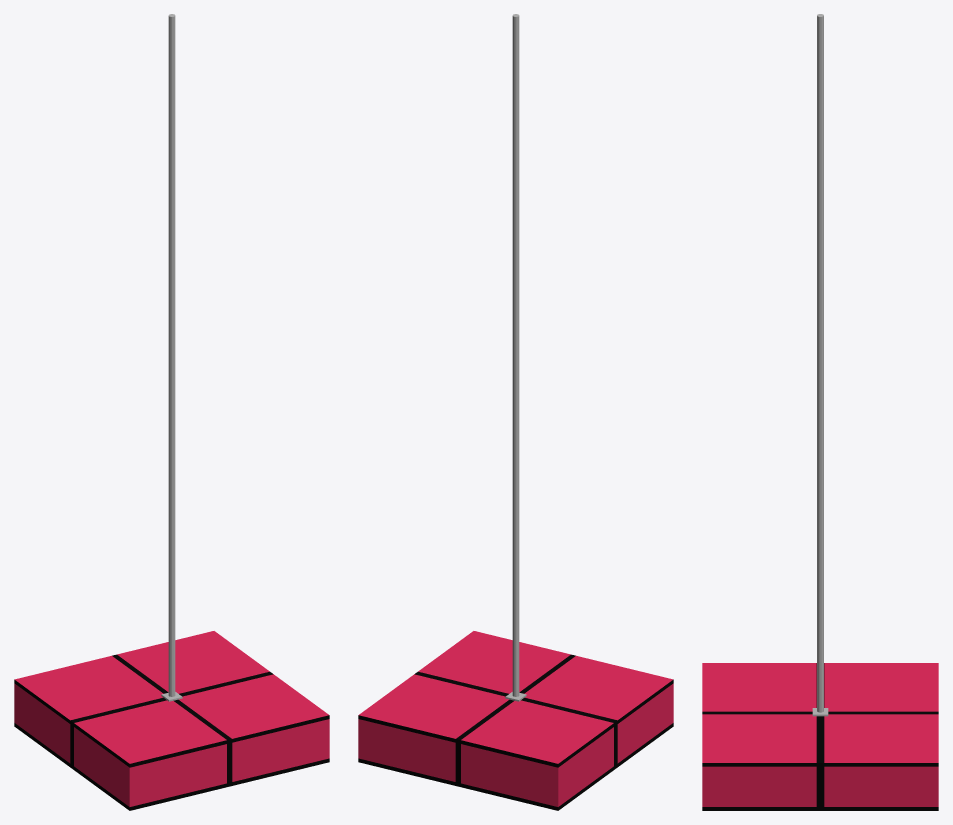
Rendered from prop_pole.fbx.
3 renders of one model, left to right at view 1: azimuth 30°, elevation 25°; view 2: azimuth 150°, elevation 25°; view 3: azimuth 270°, elevation 25°, orthographic. The views are drawn at different scales.
Parts seen in each view (by area): view 1: Cube; view 2: Cube; view 3: Cube.
Boxes of the visible parts, x1=… form: Cube: x1=14, y1=14, x2=329, y2=810; Cube: x1=358, y1=14, x2=673, y2=810; Cube: x1=702, y1=14, x2=938, y2=810.
Bounding box in the file's own units: 465 × 1622 × 465.
